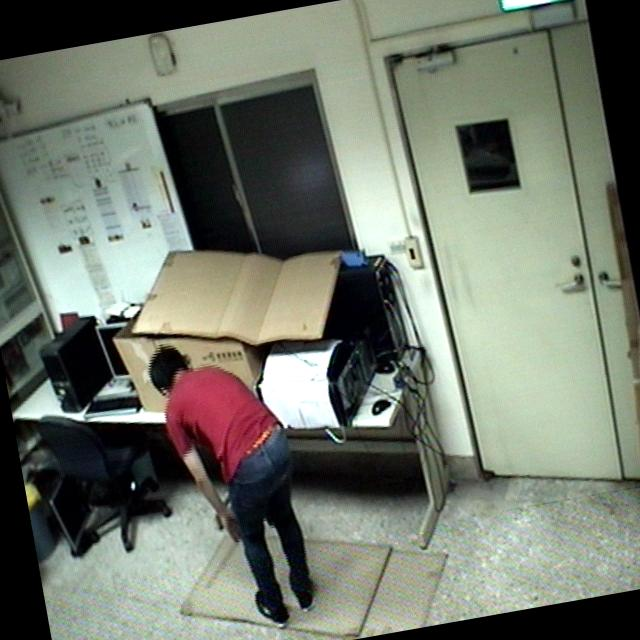bend: (138, 321, 331, 640)
